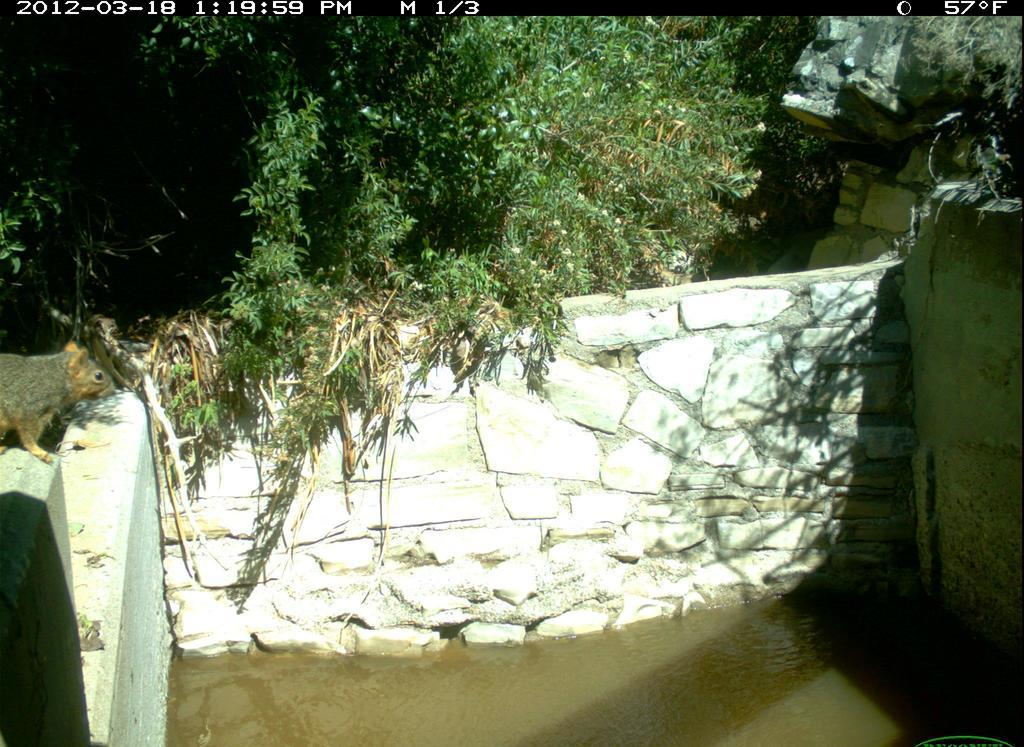squirrel: (3, 326, 150, 486)
